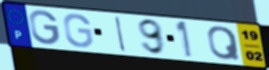1: (174, 20, 195, 60)
9: (136, 18, 167, 56)
G: (28, 9, 62, 46), (62, 12, 95, 49)
I: (114, 15, 127, 53)
Q: (207, 25, 243, 62)
